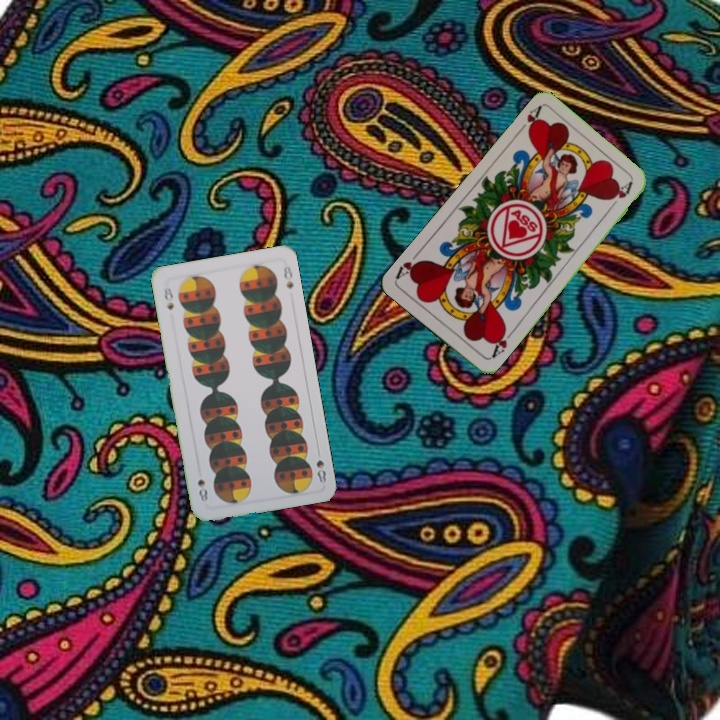HA: (486, 323, 516, 361), (512, 102, 544, 137)
S8: (312, 445, 329, 485), (160, 284, 176, 313)
